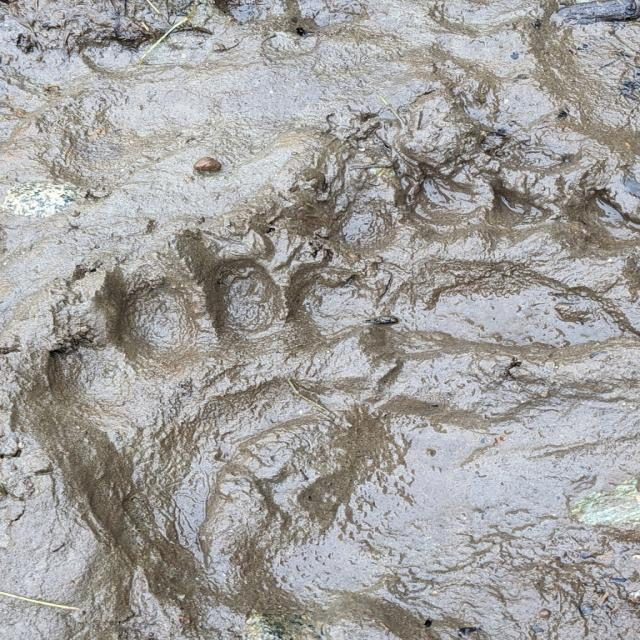bear: (55, 269, 393, 560)
